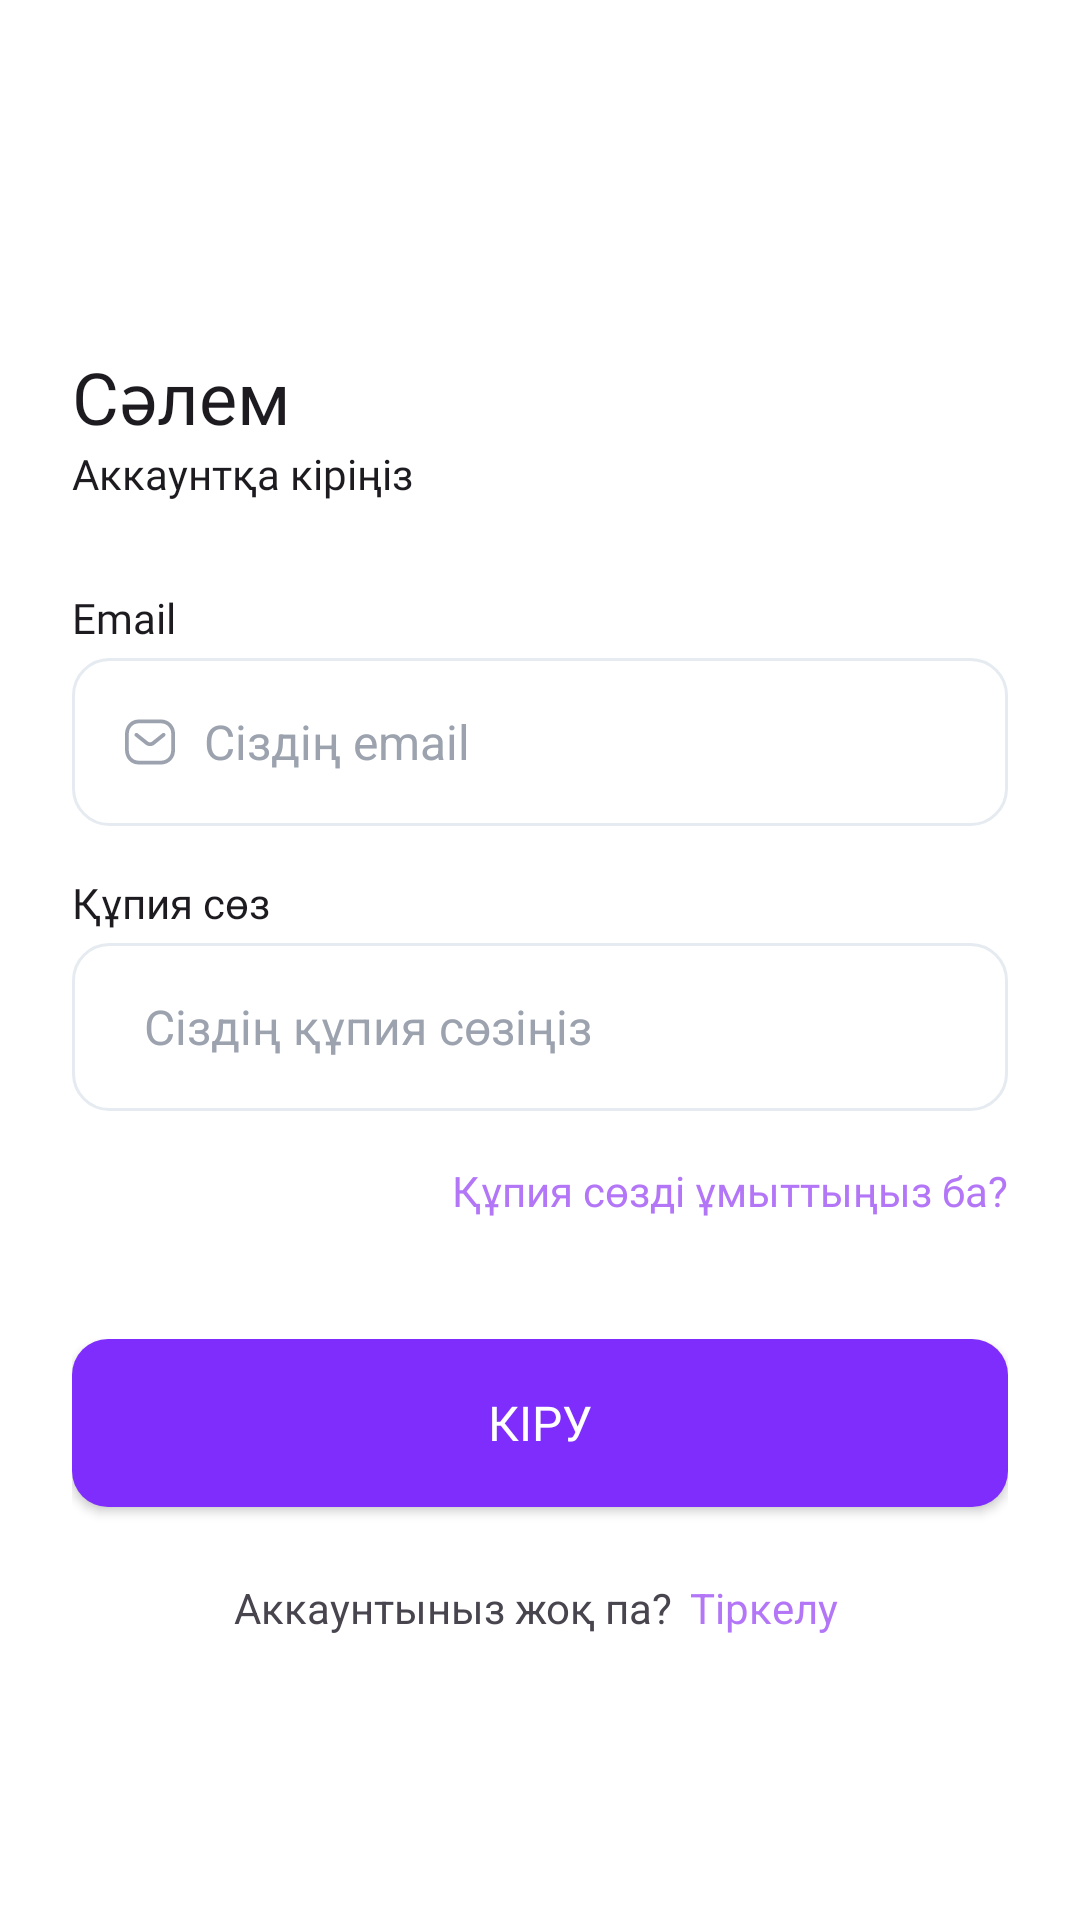

Named icons in this screenshot (1080*1920) and their centers, (x,y):
vhod message: (150,742)
